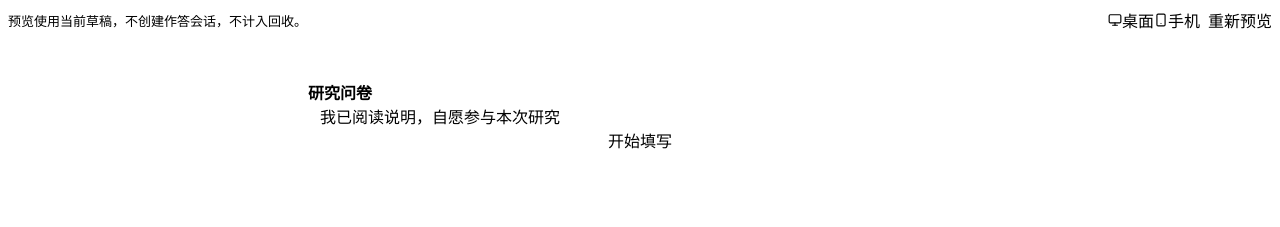
it: SurveyPreviewOverlay（issue #217） › 手机档渲染 390 机身外框与状态栏暗示；桌面档没有
Click the button "手机" at (1177, 20), box left=1154, top=8, right=1200, bottom=32
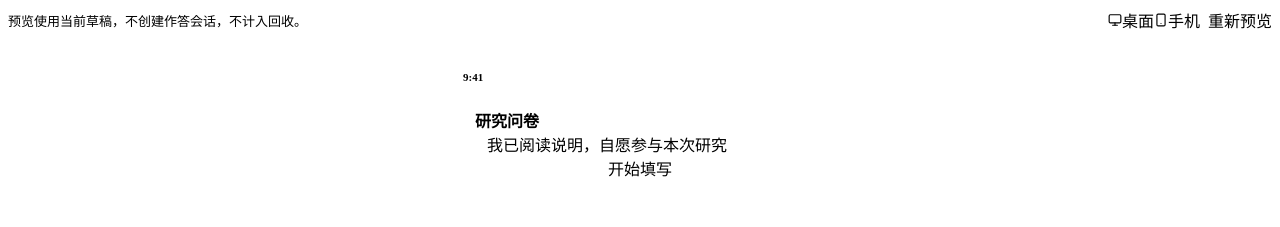
Expected: the element showing "9:41 研究问卷 我已阅读说明，自愿参与本次研究 开始填写" is shown, left=445, top=60, right=835, bottom=210
Expected: the element showing "9:41" is shown, left=463, top=71, right=483, bottom=83
Expected: the element showing "研究问卷 我已阅读说明，自愿参与本次研究 开始填写" is shown, left=475, top=113, right=805, bottom=180
